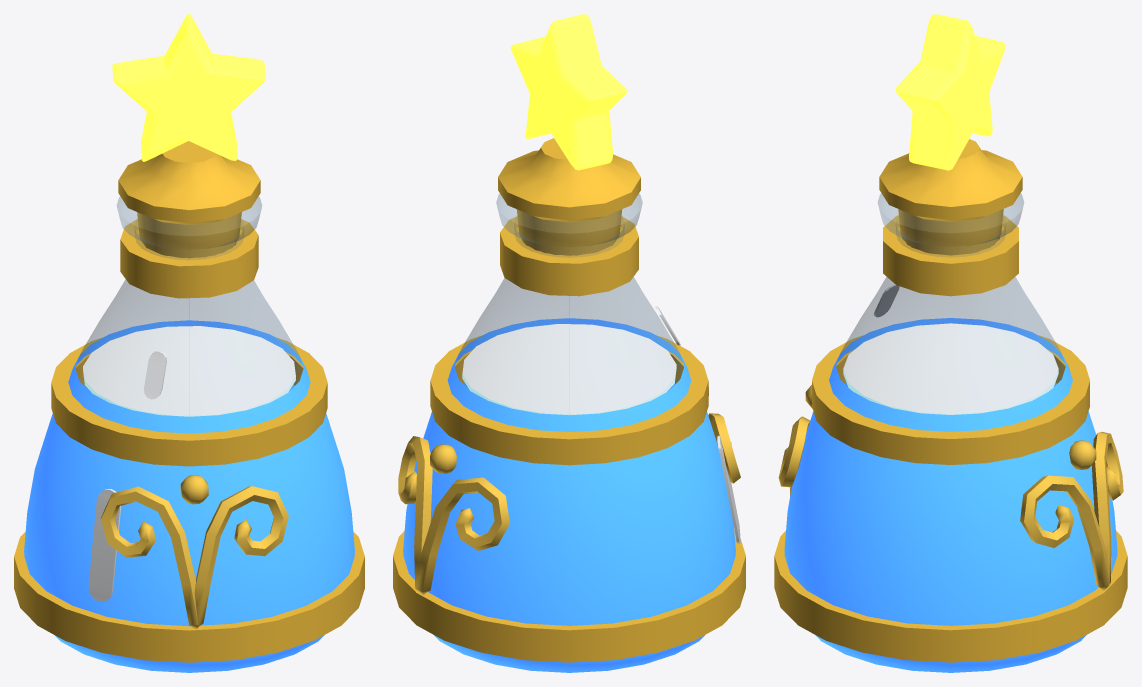
The model's file is item_greater_mana_draught.glb.
The picture shows the model from 3 angles, left to right: view 1: azimuth 30°, elevation 25°; view 2: azimuth 150°, elevation 25°; view 3: azimuth 270°, elevation 25°; orthographic projection.
Visible parts, largest first — view 1: GreaterManaDraught; view 2: GreaterManaDraught; view 3: GreaterManaDraught.
Part boxes in pixels (left/top/right/bottom): GreaterManaDraught: left=14, top=14, right=364, bottom=672; GreaterManaDraught: left=393, top=14, right=745, bottom=672; GreaterManaDraught: left=774, top=14, right=1127, bottom=672.
Size of the model in its own units: 0.1916 by 0.36 by 0.1916.
